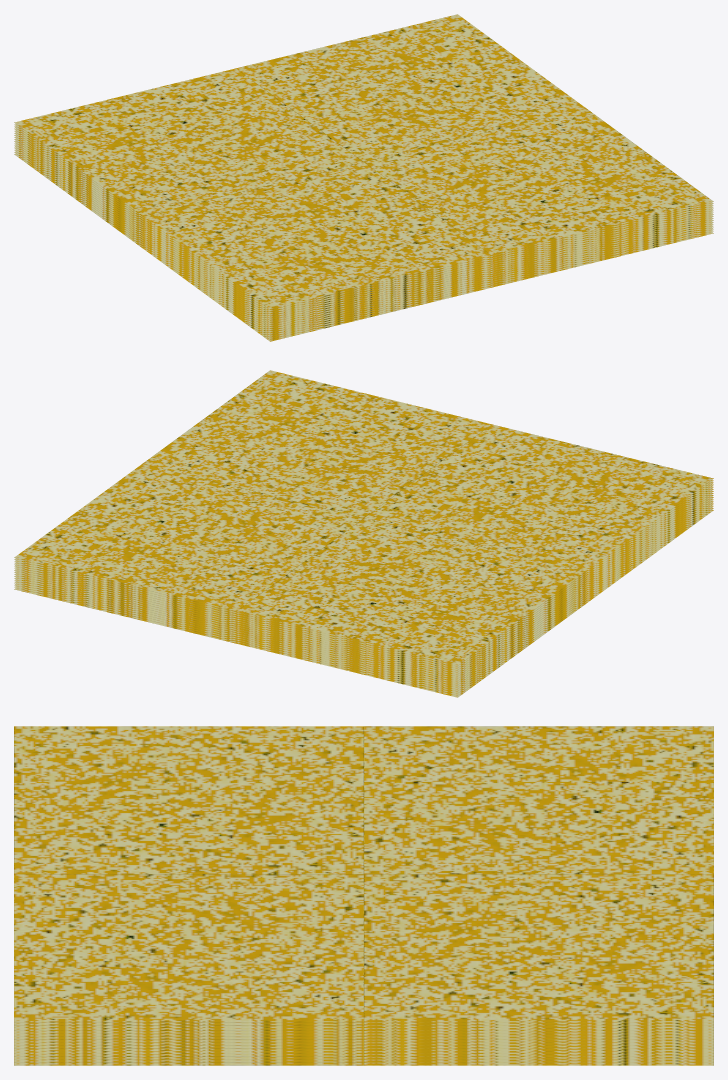
The model's file is riet_3.fbx.
3 renders of one model, top to bottom at view 1: azimuth 30°, elevation 25°; view 2: azimuth 150°, elevation 25°; view 3: azimuth 270°, elevation 25°, orthographic. The views are drawn at different scales.
Visible parts, largest first — view 1: riet; view 2: riet; view 3: riet.
Boxes of the visible parts, x1,y1,x2,y2 form: riet: (14,14,713,341); riet: (14,370,713,697); riet: (14,726,713,1065).
Bounding box in the file's own units: 1980 × 135 × 1980.
